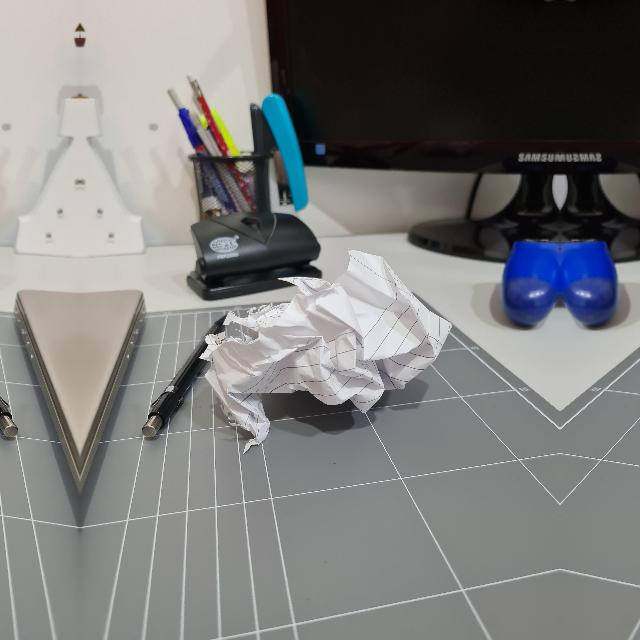paper: (206, 244, 467, 442)
